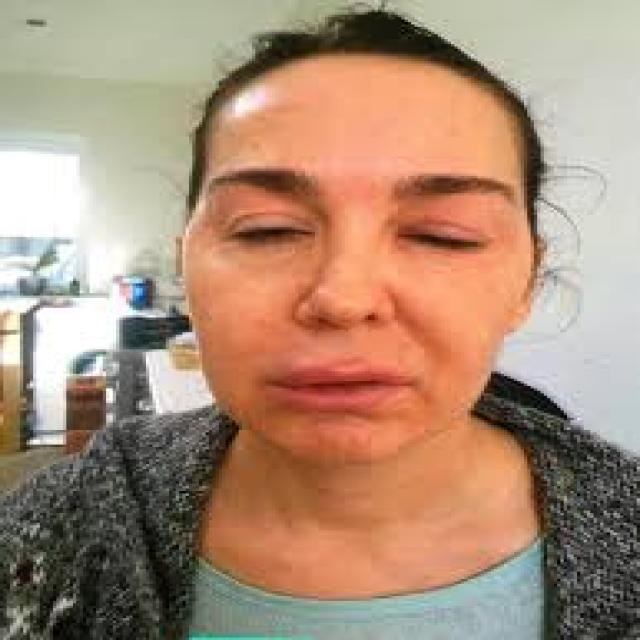stroke_face: (202, 61, 540, 474)
